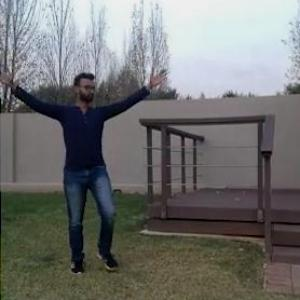takeoff: (3, 58, 178, 286)
